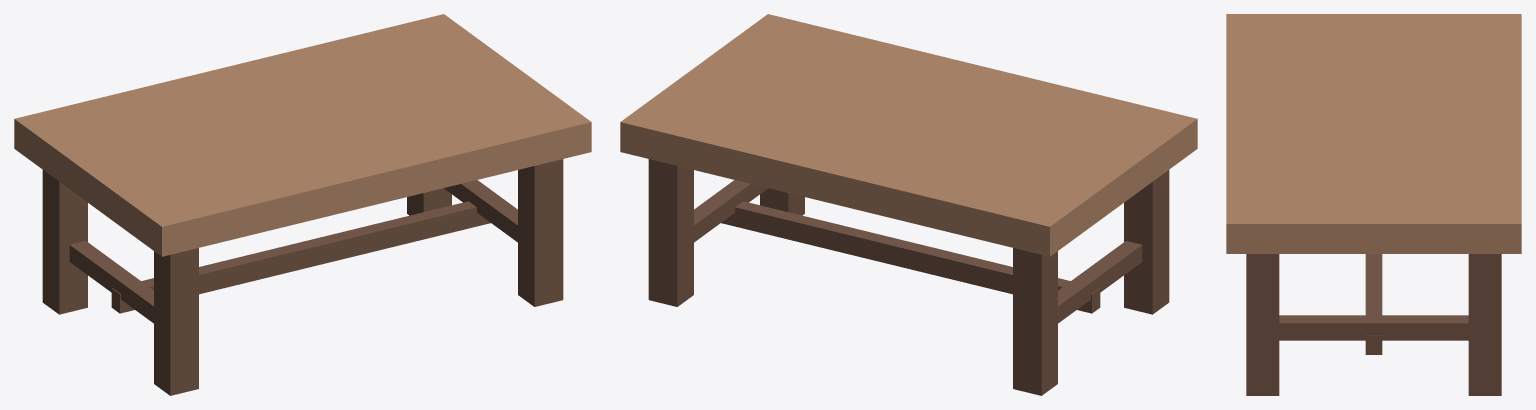
The model's file is diningtable.farm-old.glb.
3 renders of one model, left to right at view 1: azimuth 30°, elevation 25°; view 2: azimuth 150°, elevation 25°; view 3: azimuth 270°, elevation 25°, orthographic.
Visible parts, largest first — view 1: farm plank top; view 2: farm plank top; view 3: farm plank top.
Boxes of the visible parts, bbox=[...] form: farm plank top: bbox=[14, 14, 591, 395]; farm plank top: bbox=[620, 14, 1197, 395]; farm plank top: bbox=[1226, 14, 1521, 395].
Size of the model in its own units: 2.1 by 0.845 by 1.25.
